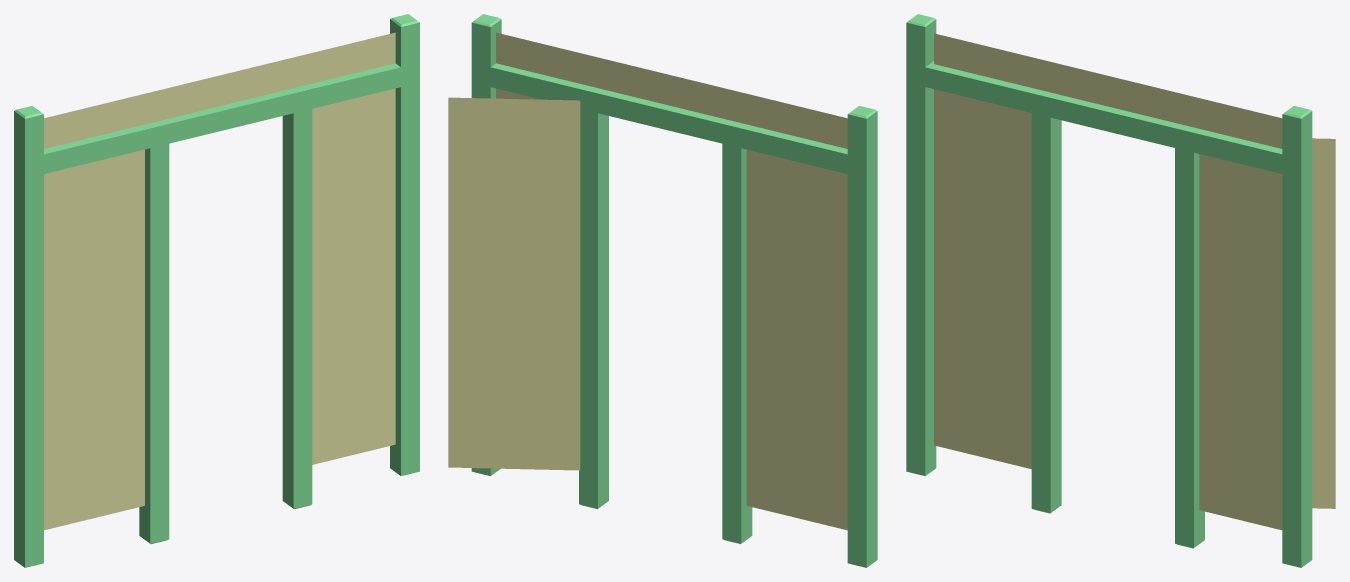
File: grid_fence_door.gltf
3 renders of one model, left to right at view 1: azimuth 30°, elevation 25°; view 2: azimuth 150°, elevation 25°; view 3: azimuth 330°, elevation 25°, orthographic.
Visible parts, largest first — view 1: GridFenceDoor; view 2: GridFenceDoor; view 3: GridFenceDoor.
Boxes of the visible parts, left/top/right/bottom form: GridFenceDoor: left=14, top=14, right=419, bottom=567; GridFenceDoor: left=448, top=14, right=877, bottom=567; GridFenceDoor: left=906, top=14, right=1335, bottom=567.
Bounding box in the file's own units: 2.21 × 2.45 × 0.3949.
